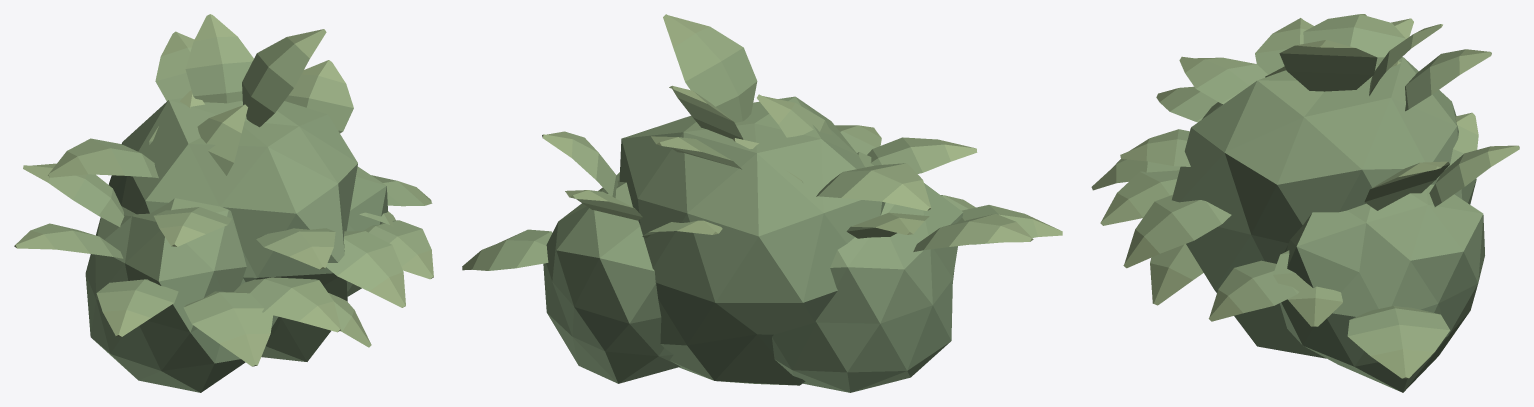
File: Bush1_leaf.glb
3 renders of one model, left to right at view 1: azimuth 30°, elevation 25°; view 2: azimuth 150°, elevation 25°; view 3: azimuth 270°, elevation 25°, orthographic. The views are drawn at different scales.
Parts seen in each view (by area): view 1: Bush1_leaf; view 2: Bush1_leaf; view 3: Bush1_leaf.
Boxes of the visible parts, x1=… form: Bush1_leaf: x1=14, y1=14, x2=433, y2=392; Bush1_leaf: x1=462, y1=14, x2=1062, y2=392; Bush1_leaf: x1=1091, y1=14, x2=1519, y2=392.
Size of the model in its own units: 5.02 by 3.19 by 3.68.
